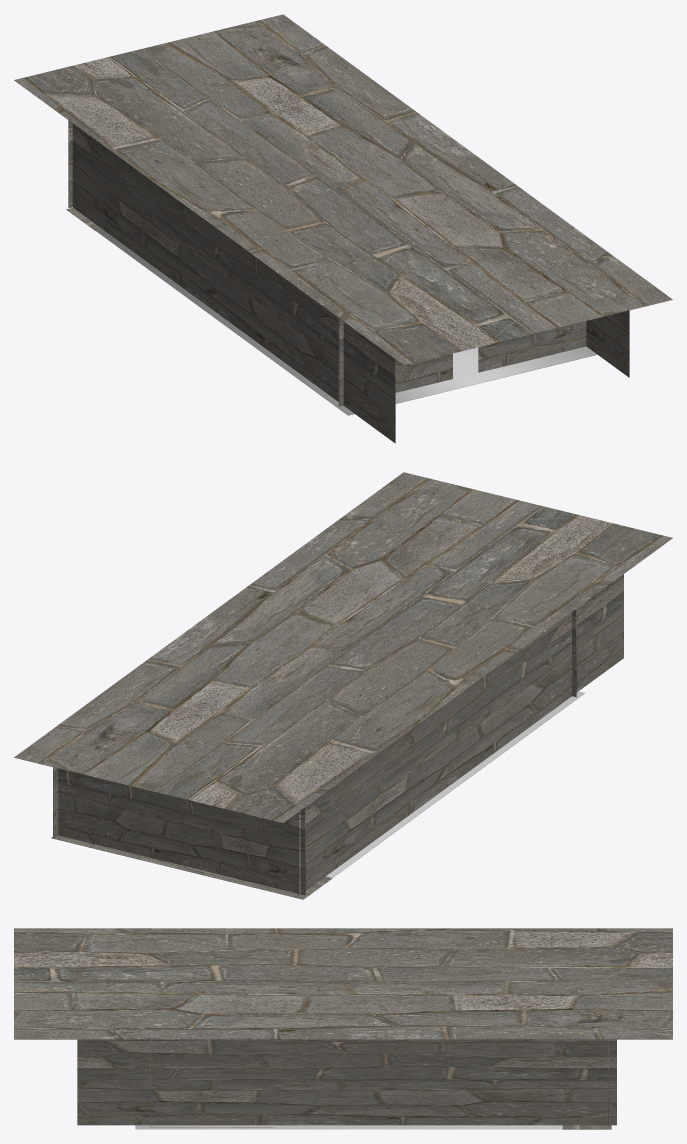
The picture shows the model from 3 angles, top to bottom: view 1: azimuth 30°, elevation 25°; view 2: azimuth 150°, elevation 25°; view 3: azimuth 270°, elevation 25°; orthographic projection. The views are drawn at different scales.
Parts seen in each view (by area): view 1: Tetto ufficio, object_184.002, object_184, object_194, object_184.001; view 2: Tetto ufficio, object_184.002, object_184.003, object_194, Plane.028; view 3: Tetto ufficio, object_184.001, object_194.
Part boxes in pixels (x1=…): Tetto ufficio: x1=14, y1=14, x2=672, y2=365; object_184.002: x1=72, y1=123, x2=395, y2=443; object_184: x1=338, y1=318, x2=586, y2=406; object_194: x1=95, y1=228, x2=597, y2=415; object_184.001: x1=586, y1=310, x2=629, y2=377; Tetto ufficio: x1=14, y1=472, x2=672, y2=823; object_184.002: x1=298, y1=574, x2=623, y2=895; object_184.003: x1=58, y1=768, x2=305, y2=895; object_194: x1=326, y1=691, x2=584, y2=878; Plane.028: x1=51, y1=835, x2=332, y2=899; Tetto ufficio: x1=14, y1=928, x2=672, y2=1039; object_184.001: x1=77, y1=1039, x2=616, y2=1125; object_194: x1=135, y1=1125, x2=562, y2=1129.
Size of the model in its own units: 1067 by 405 by 2675.
